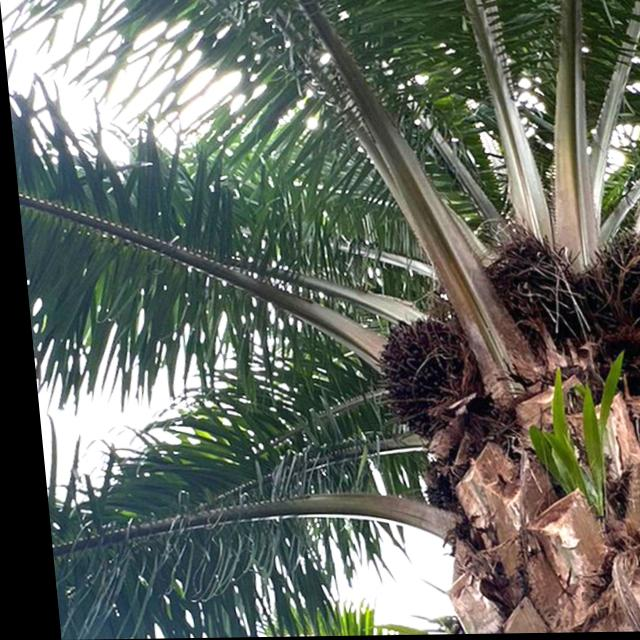almost: (362, 314, 476, 444)
